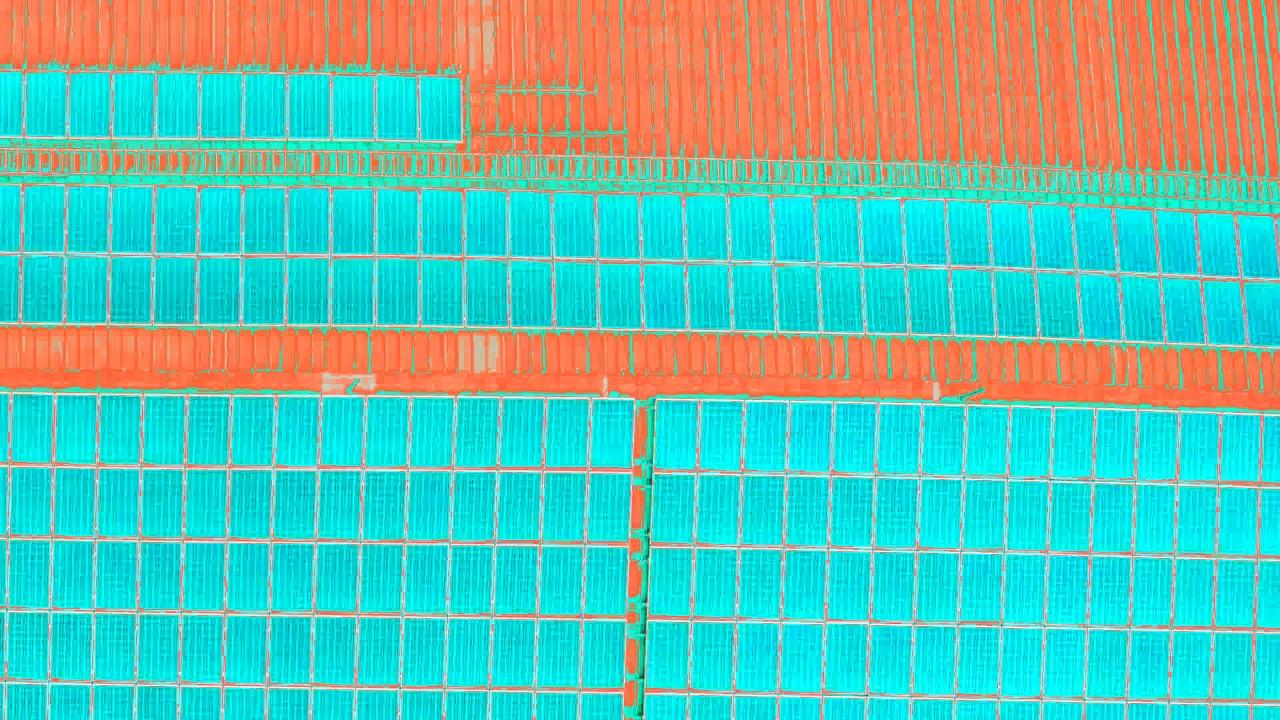dirty: (4, 184, 1280, 344), (6, 391, 622, 720), (649, 398, 1275, 720), (11, 69, 460, 143)
